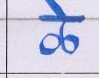e_matra: (45, 1, 68, 16)
